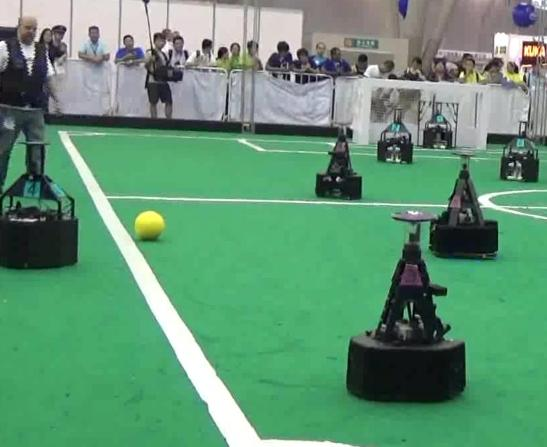robot: (343, 208, 470, 403), (1, 137, 81, 271), (423, 151, 502, 261), (313, 120, 365, 201), (497, 115, 541, 184), (375, 106, 418, 165), (419, 97, 457, 150)
